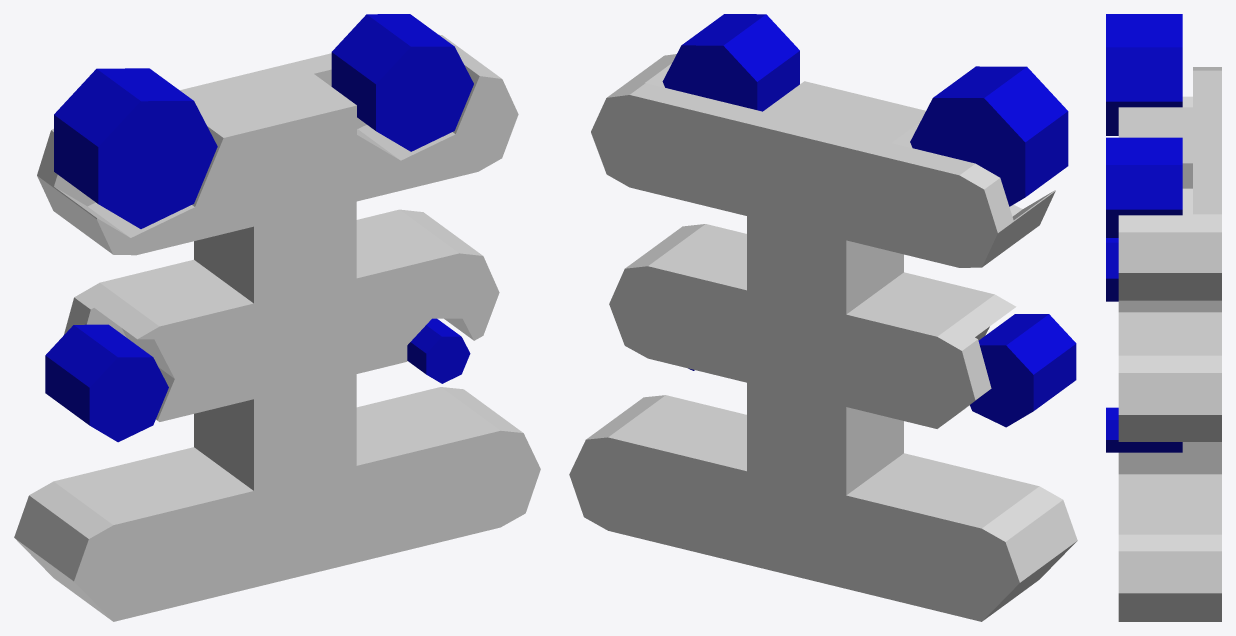
The model's file is Ch_Lite_China_王_01.fbx.
3 renders of one model, left to right at view 1: azimuth 30°, elevation 25°; view 2: azimuth 150°, elevation 25°; view 3: azimuth 270°, elevation 25°, orthographic. The views are drawn at different scales.
Visible parts, largest first — view 1: sphere1; view 2: sphere1; view 3: sphere1.
Boxes of the visible parts, x1=… form: sphere1: x1=14, y1=14, x2=540, y2=621; sphere1: x1=569, y1=14, x2=1077, y2=621; sphere1: x1=1106, y1=14, x2=1221, y2=621.
Bounding box in the file's own units: 0.8999 × 0.9598 × 0.2242.
